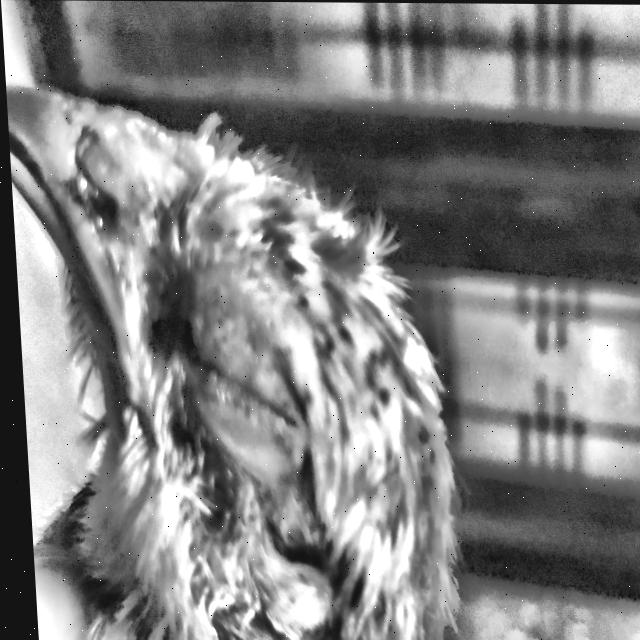Coryza: (1, 0, 476, 640)
